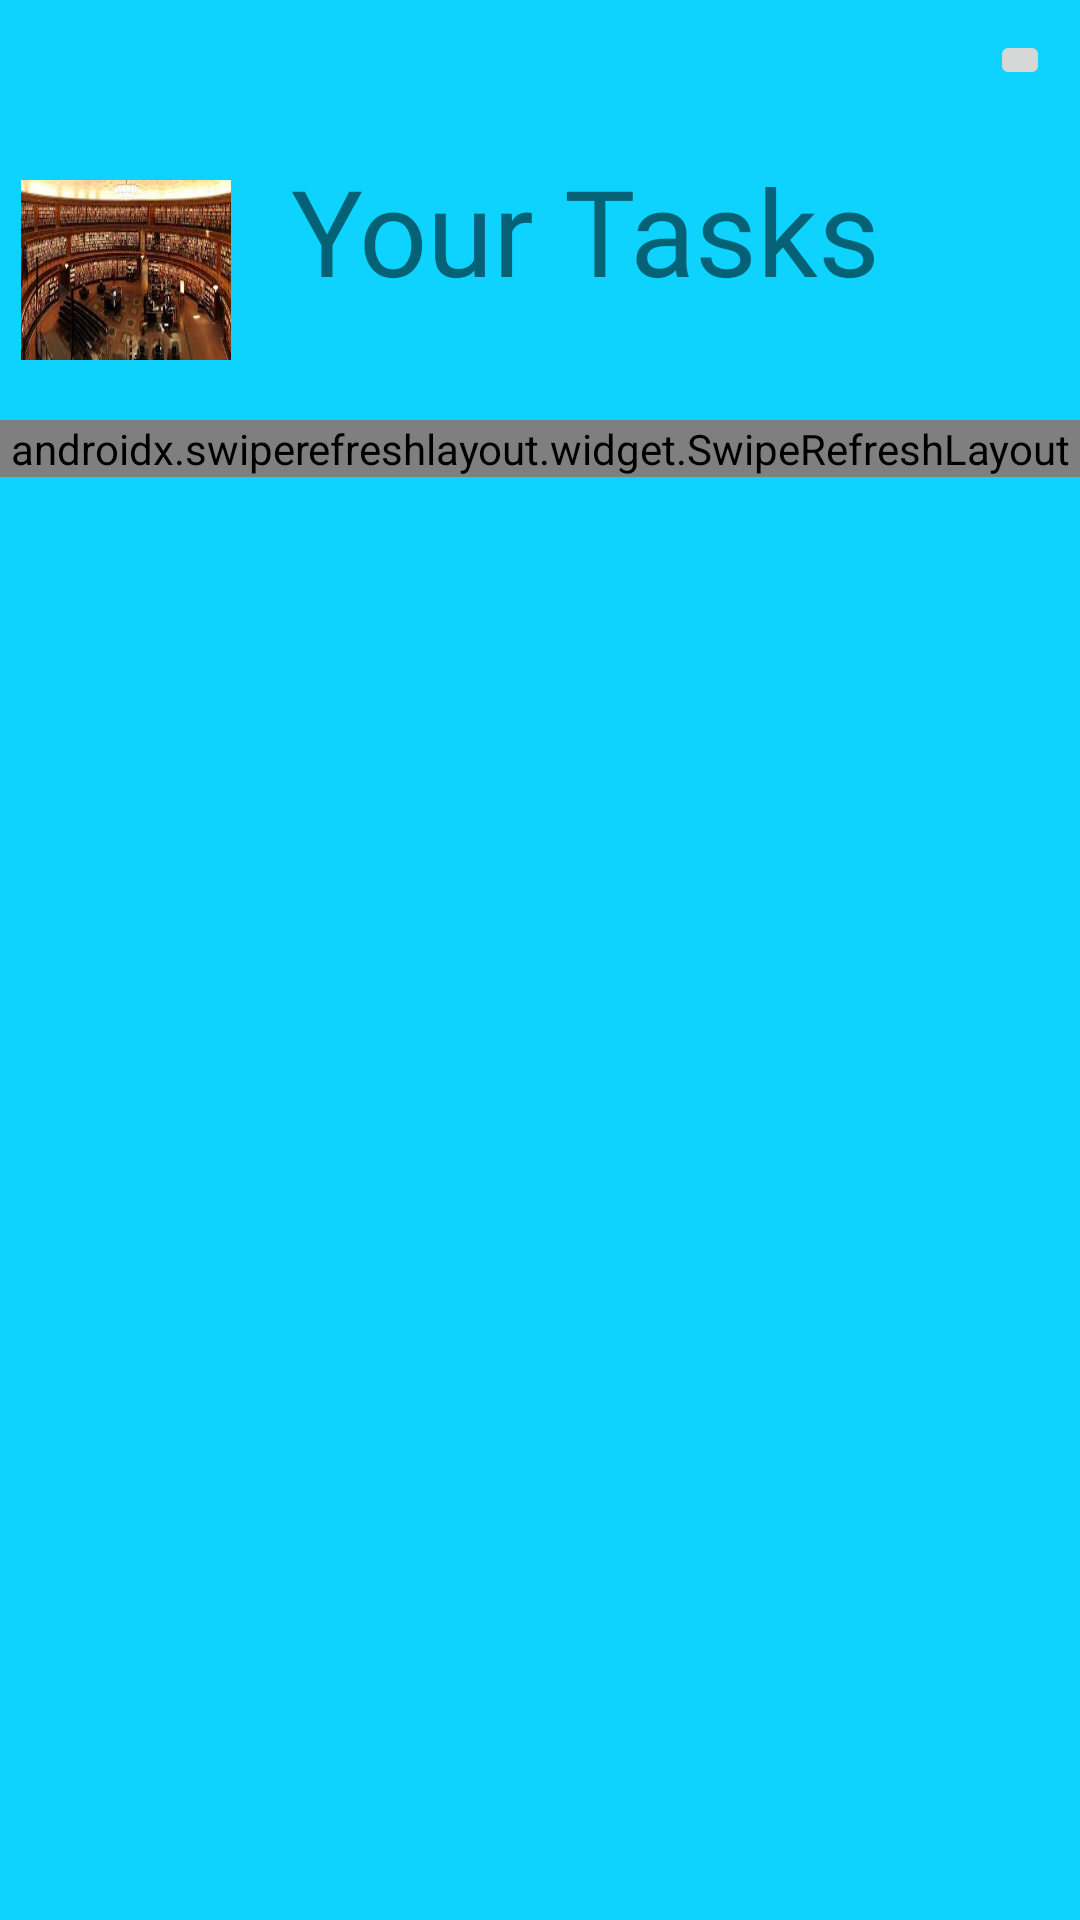

Icons on this 1080px×1920px Android screen, each with the point to tap as (x=x, y=y):
library: (x=126, y=270)
